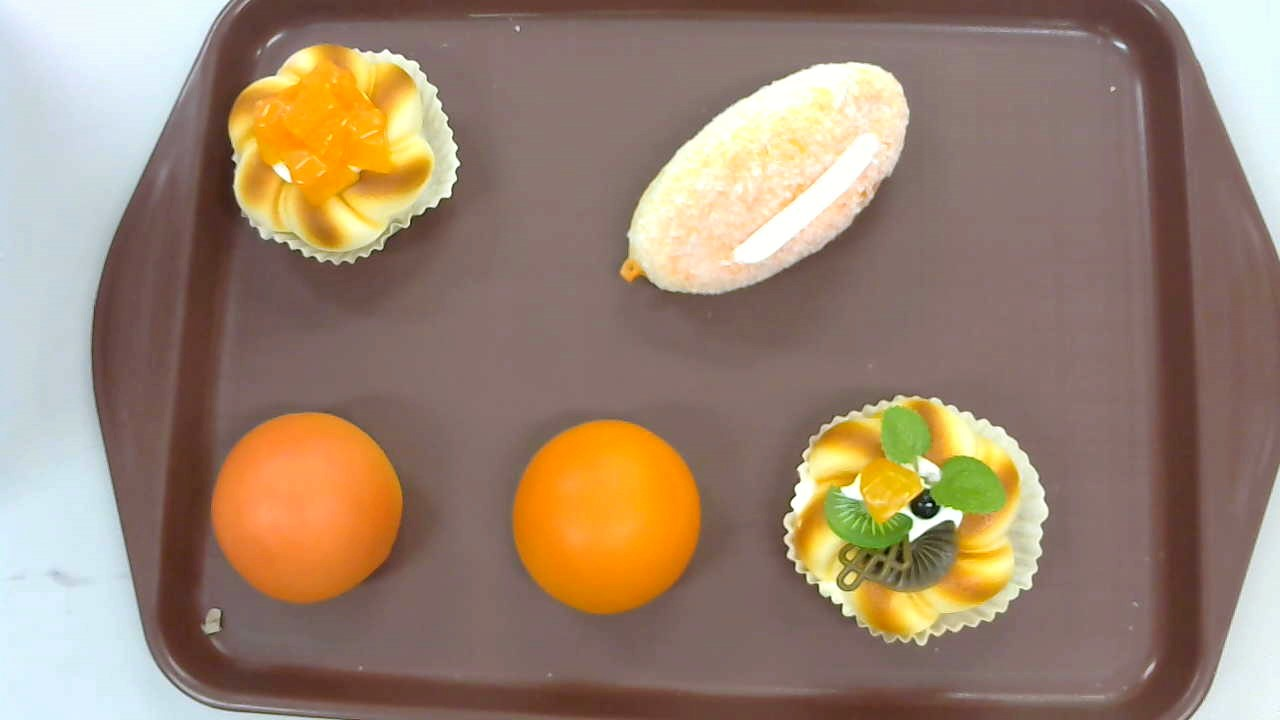bun: (210, 412, 403, 603), (513, 419, 701, 612)
coconut: (620, 62, 910, 298)
fruit tart: (782, 393, 1050, 647)
mango tart: (227, 42, 461, 267)
